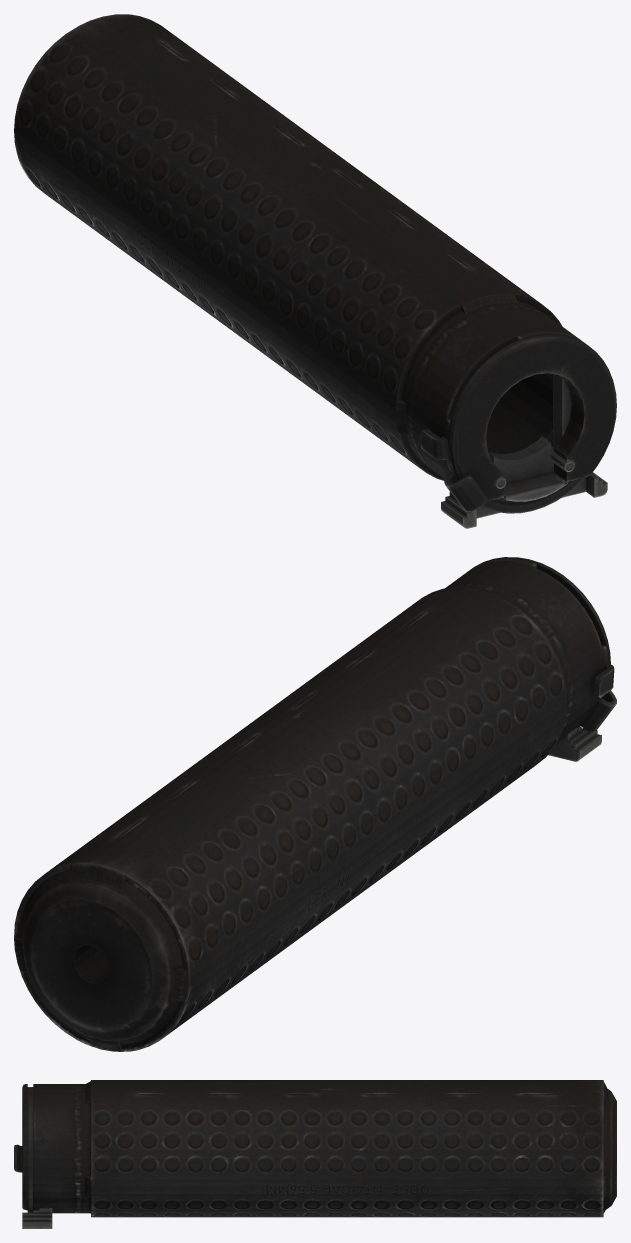
3 views of the same model, one above another, from view 1: azimuth 30°, elevation 25°; view 2: azimuth 150°, elevation 25°; view 3: azimuth 270°, elevation 25° (orthographic). The views are drawn at different scales.
Parts seen in each view (by area): view 1: TW_57da93632459771cb65bf83f_PZ_Import; view 2: TW_57da93632459771cb65bf83f_PZ_Import; view 3: TW_57da93632459771cb65bf83f_PZ_Import.
Boxes of the visible parts, x1=… form: TW_57da93632459771cb65bf83f_PZ_Import: x1=14, y1=14, x2=616, y2=528; TW_57da93632459771cb65bf83f_PZ_Import: x1=14, y1=557, x2=616, y2=1051; TW_57da93632459771cb65bf83f_PZ_Import: x1=14, y1=1080, x2=616, y2=1228.
Bounding box in the file's own units: 0.023 × 0.0983 × 0.0224.
Materials: 1 (1 with a texture image).
